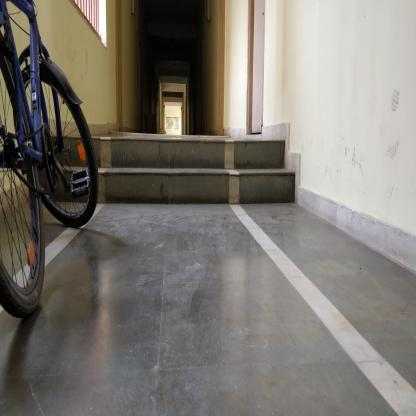stairs: (101, 135, 284, 210)
